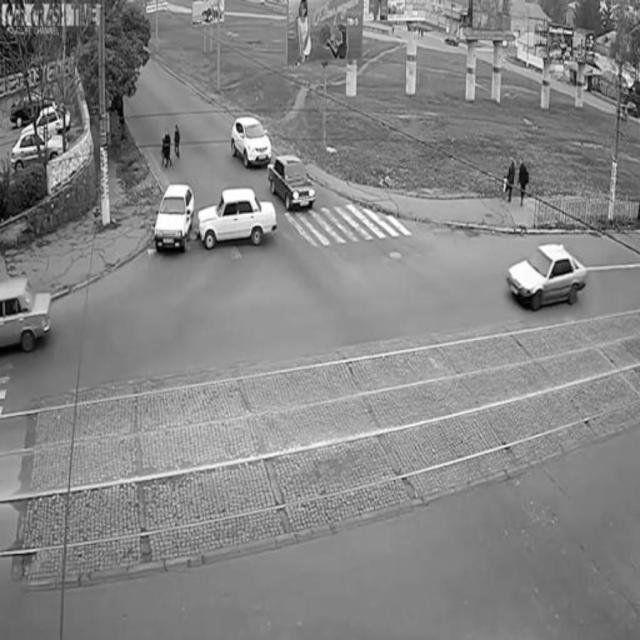person: (502, 146, 530, 204), (157, 118, 183, 169)
vehicle: (198, 184, 282, 248), (511, 245, 588, 306), (0, 277, 55, 357), (153, 182, 195, 258), (9, 123, 70, 175), (268, 149, 316, 215), (229, 117, 273, 171)
